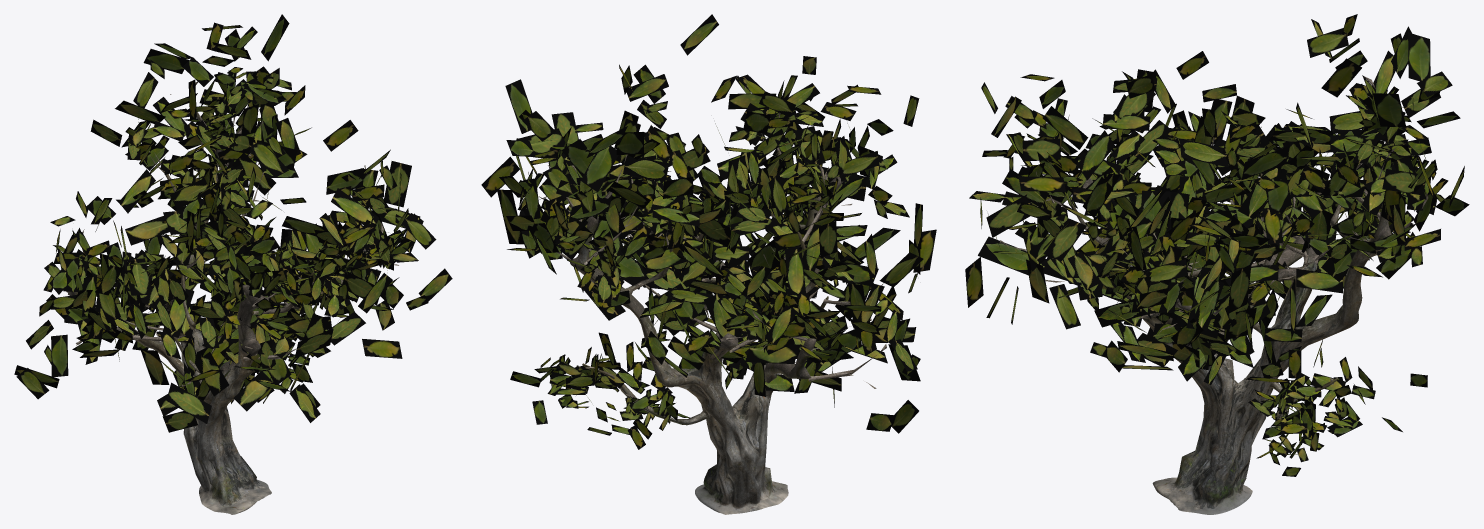
Rendered from distant.glb.
3 renders of one model, left to right at view 1: azimuth 30°, elevation 25°; view 2: azimuth 150°, elevation 25°; view 3: azimuth 270°, elevation 25°, orthographic. The views are drawn at different scales.
Visible parts, largest first — view 1: island_tree_01_LOD0; view 2: island_tree_01_LOD0; view 3: island_tree_01_LOD0.
Part boxes in pixels (bbox=[...]): island_tree_01_LOD0: bbox=[14, 14, 452, 514]; island_tree_01_LOD0: bbox=[481, 14, 936, 514]; island_tree_01_LOD0: bbox=[965, 14, 1469, 514].
Bounding box in the file's own units: 4.83 × 5.07 × 4.56.
Materials: 3 (3 with a texture image).
